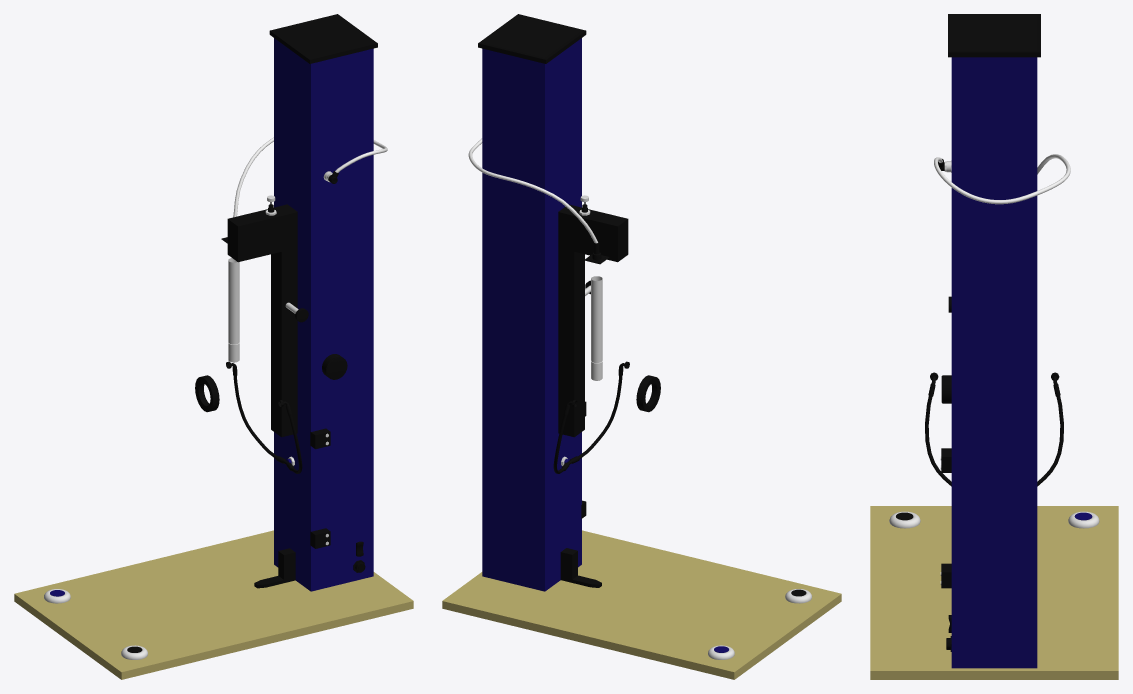
Rendered from CP3MainMesh_separate.obj.
3 renders of one model, left to right at view 1: azimuth 30°, elevation 25°; view 2: azimuth 150°, elevation 25°; view 3: azimuth 270°, elevation 25°, orthographic. The views are drawn at different scales.
Visible parts, largest first — view 1: polySurface80 polySurface76 polySurface68, Temp5:polySurface12 Temp5:polySurface16 polySurface80 polySurfac; view 2: polySurface80 polySurface76 polySurface68; view 3: polySurface80 polySurface76 polySurface68, Temp8:polySurface12 Temp8:polySurface60 polySurface80 polySurfac, Temp5:polySurface12 Temp5:polySurface16 polySurface80 polySurfac.
Part boxes in pixels (left/top/right/bottom): polySurface80 polySurface76 polySurface68: left=14, top=14, right=413, bottom=679; Temp5:polySurface12 Temp5:polySurface16 polySurface80 polySurfac: left=310, top=428, right=330, bottom=548; polySurface80 polySurface76 polySurface68: left=442, top=14, right=841, bottom=679; polySurface80 polySurface76 polySurface68: left=870, top=14, right=1118, bottom=679; Temp8:polySurface12 Temp8:polySurface60 polySurface80 polySurfac: left=889, top=511, right=1099, bottom=528; Temp5:polySurface12 Temp5:polySurface16 polySurface80 polySurfac: left=941, top=448, right=951, bottom=588.
Size of the model in its own units: 45.43 by 75.73 by 27.15.
1 material, 1 textured.
